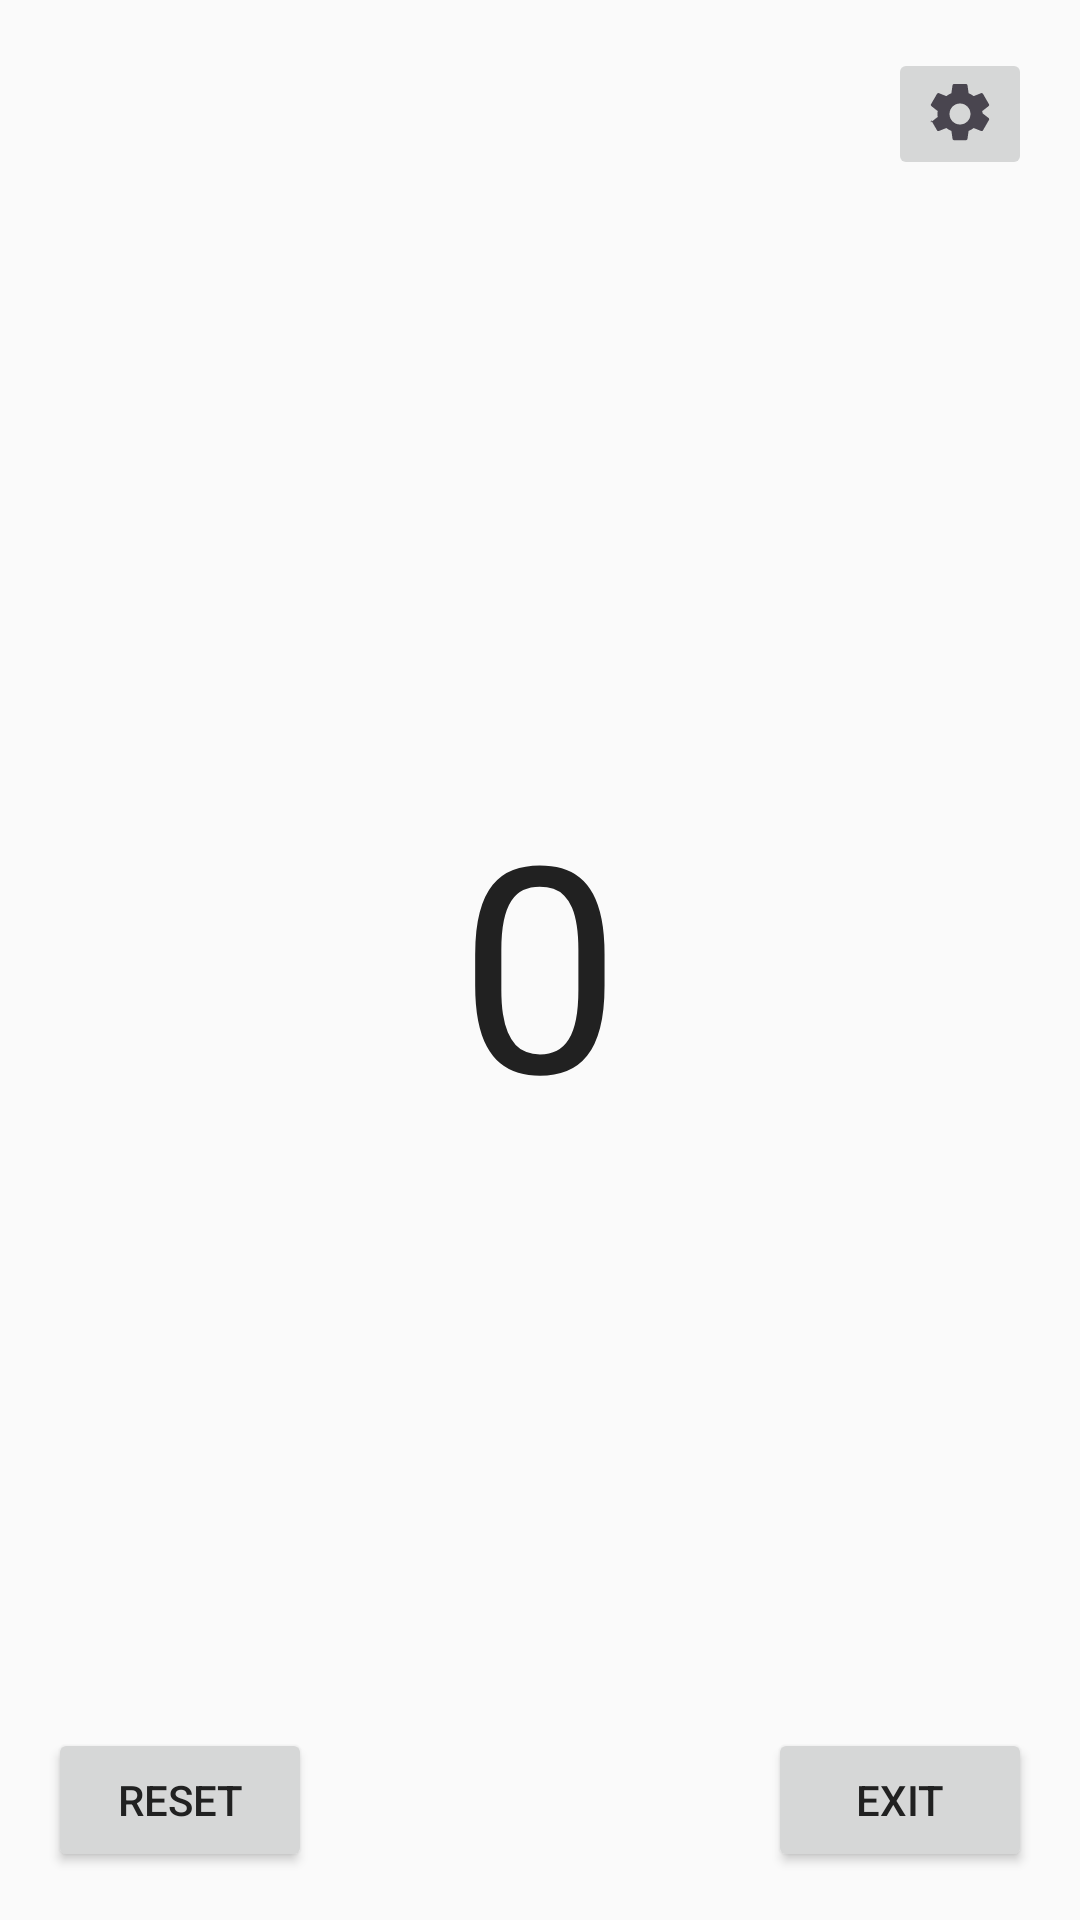

Where icons sit on this 1080w x 1920h app screen, as BBox(x1, y1, x2, y2):
Settings: BBox(900, 66, 1020, 162)
